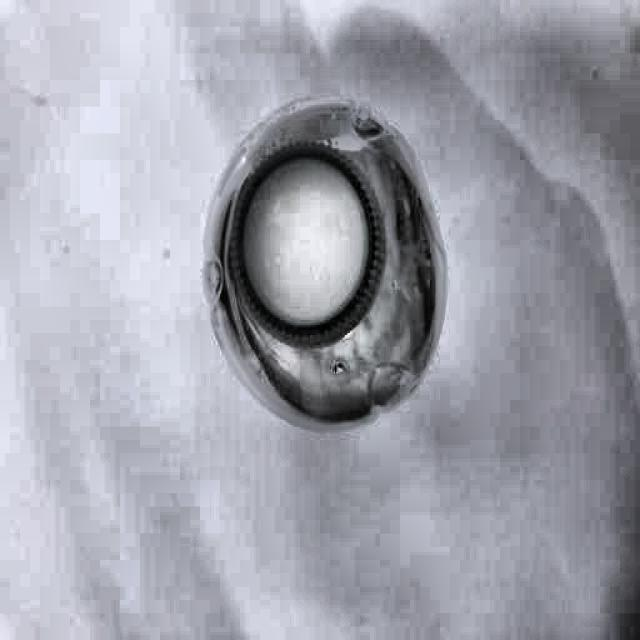plastic: (204, 106, 447, 426)
